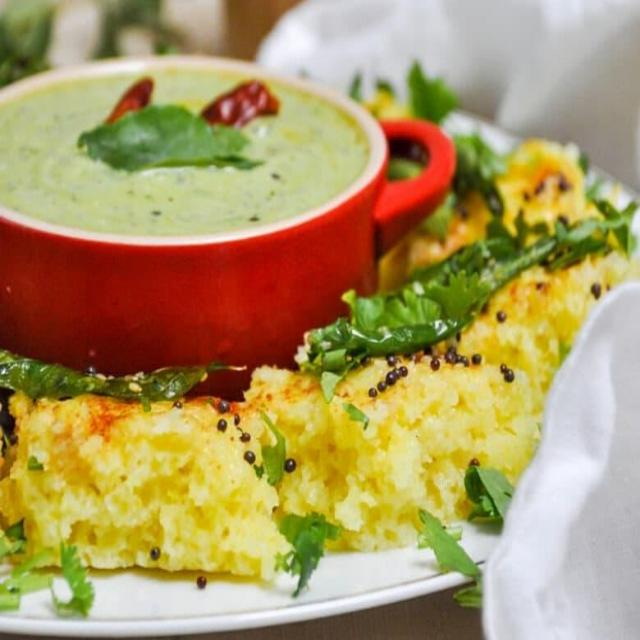dhokla: (0, 360, 511, 596), (376, 69, 640, 346)
